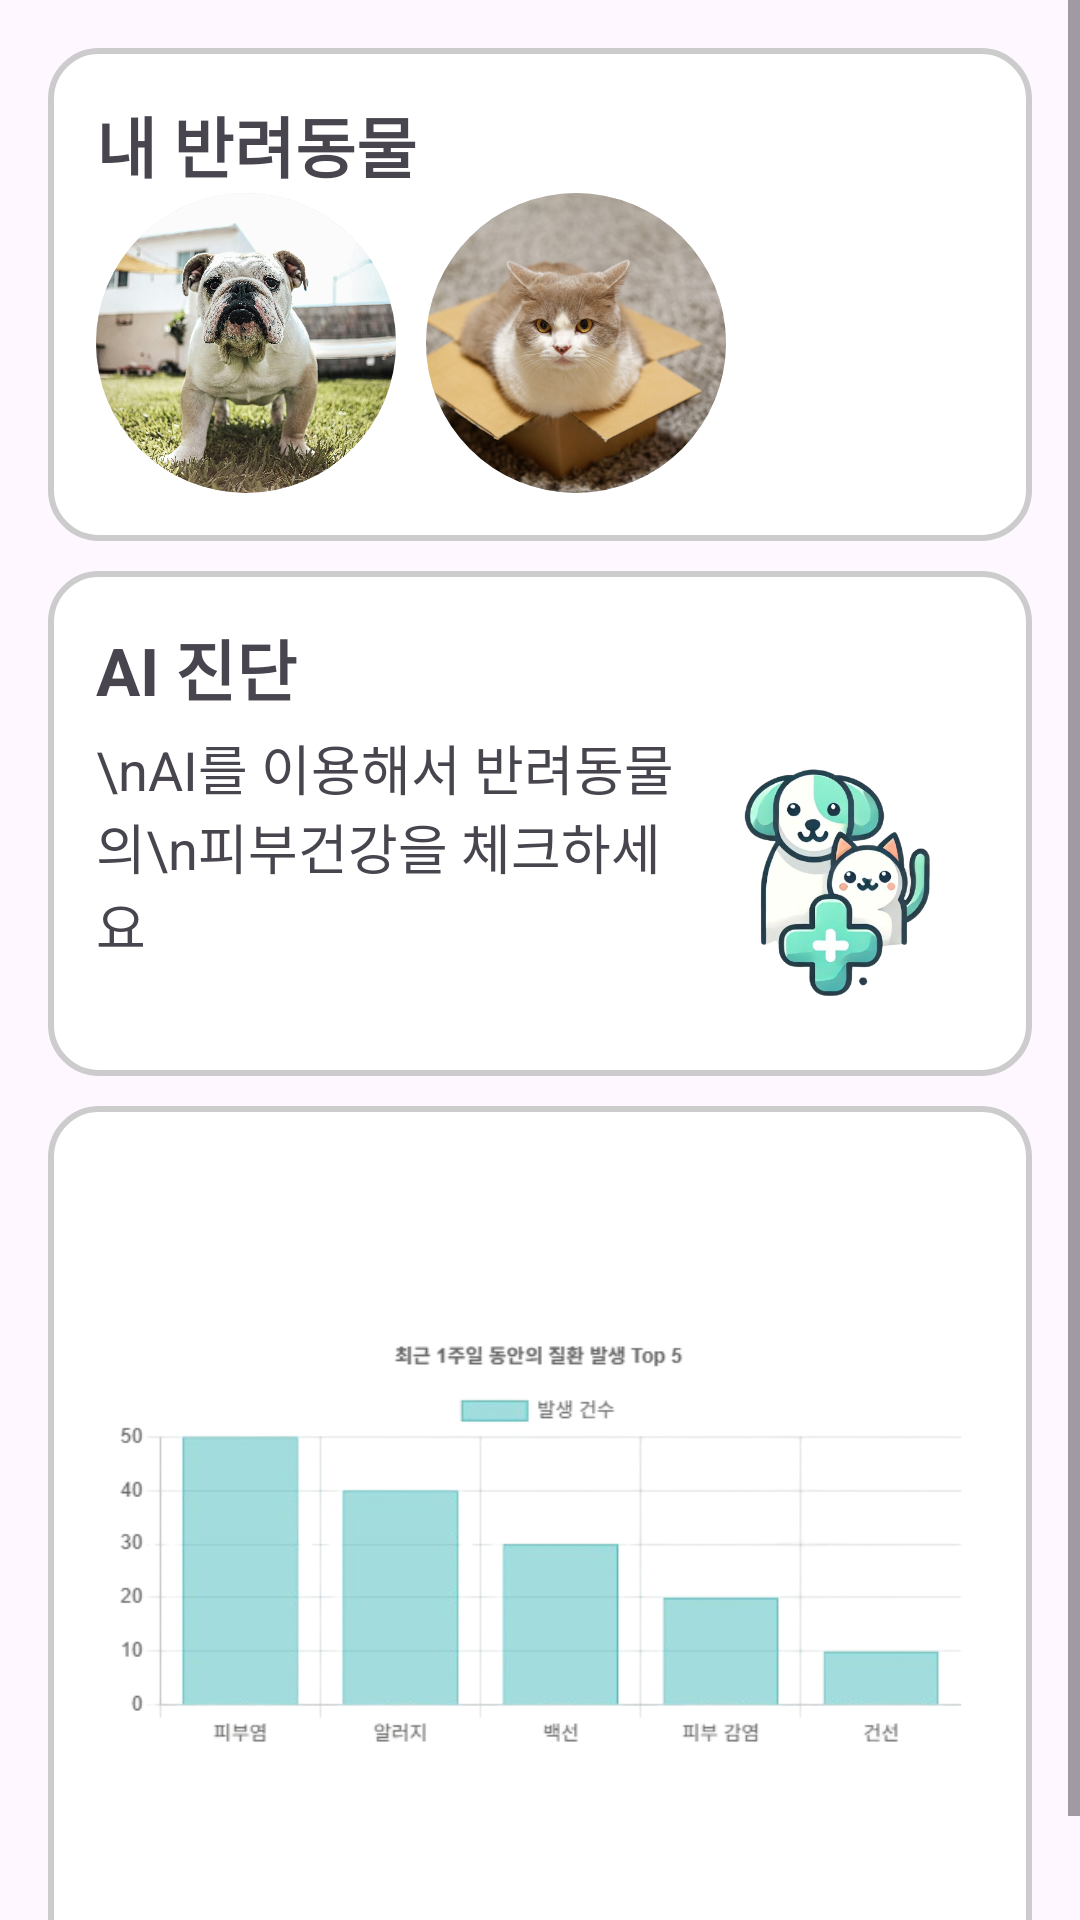

Icon bounding boxes for this 1080*1920 phone screenshot, format (x1,y1,x2,y2):
testmycat: (426,193,726,493)
testmydog: (96,223,396,493)
